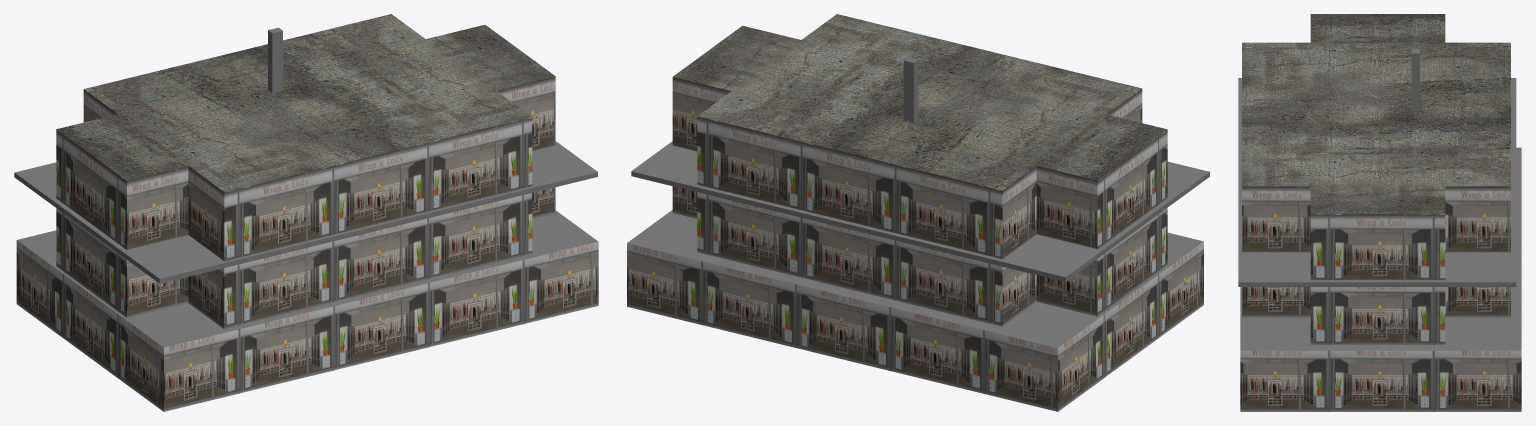
The model's file is LOD01_Building_3Stores_StockExpo.obj.
3 views of the same model, side by side, from view 1: azimuth 30°, elevation 25°; view 2: azimuth 150°, elevation 25°; view 3: azimuth 270°, elevation 25° (orthographic). The views are drawn at different scales.
Visible parts, largest first — view 1: LOD01_Building_3Stores_StockExpo; view 2: LOD01_Building_3Stores_StockExpo; view 3: LOD01_Building_3Stores_StockExpo.
Boxes of the visible parts, x1=… form: LOD01_Building_3Stores_StockExpo: x1=14, y1=14, x2=598, y2=411; LOD01_Building_3Stores_StockExpo: x1=627, y1=14, x2=1209, y2=411; LOD01_Building_3Stores_StockExpo: x1=1238, y1=14, x2=1521, y2=411.
Size of the model in its own units: 9.28 by 5.34 by 5.42.
